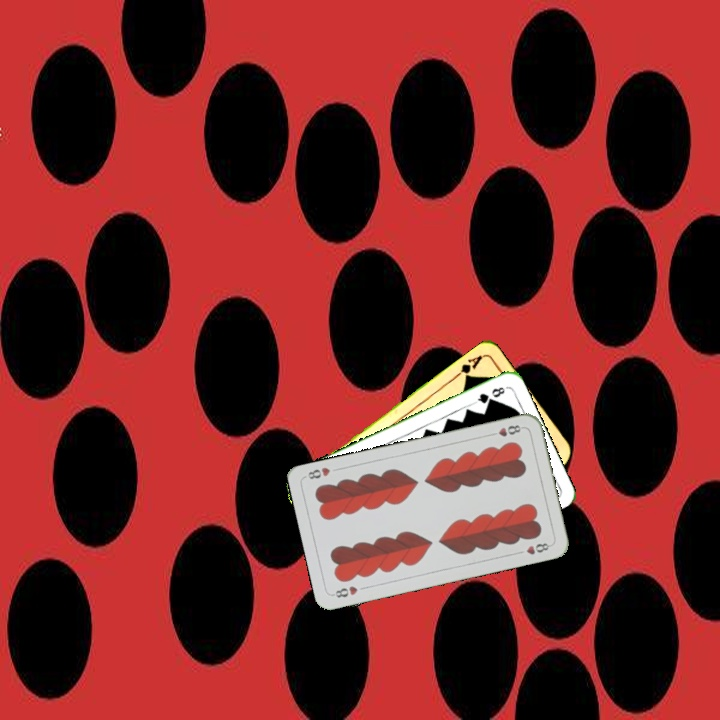G8: (471, 383, 508, 406)
GA: (451, 351, 486, 382)
H8: (486, 421, 526, 439), (329, 582, 360, 600)
